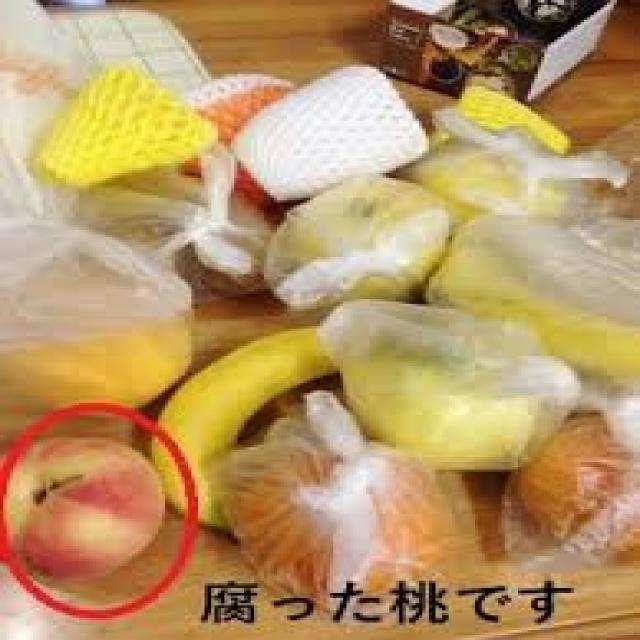organic waste: (145, 321, 333, 529), (3, 435, 162, 586), (244, 462, 429, 588), (3, 311, 182, 413), (462, 272, 637, 371), (343, 361, 535, 447), (521, 425, 637, 554), (294, 193, 426, 289)
